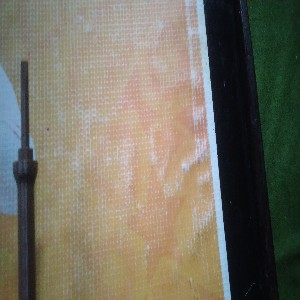obeng: (12, 59, 39, 300)
